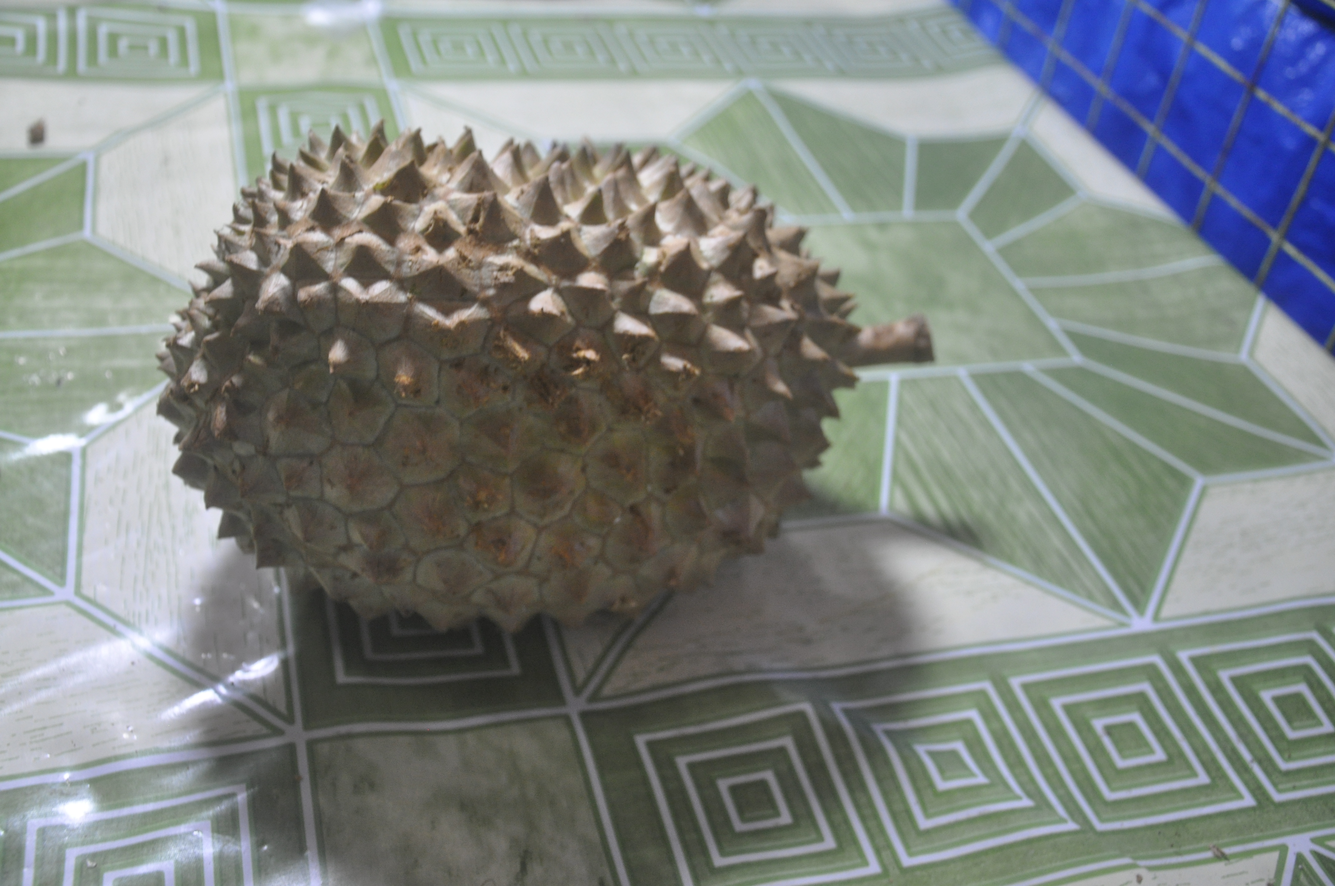mature: (159, 128, 931, 630)
